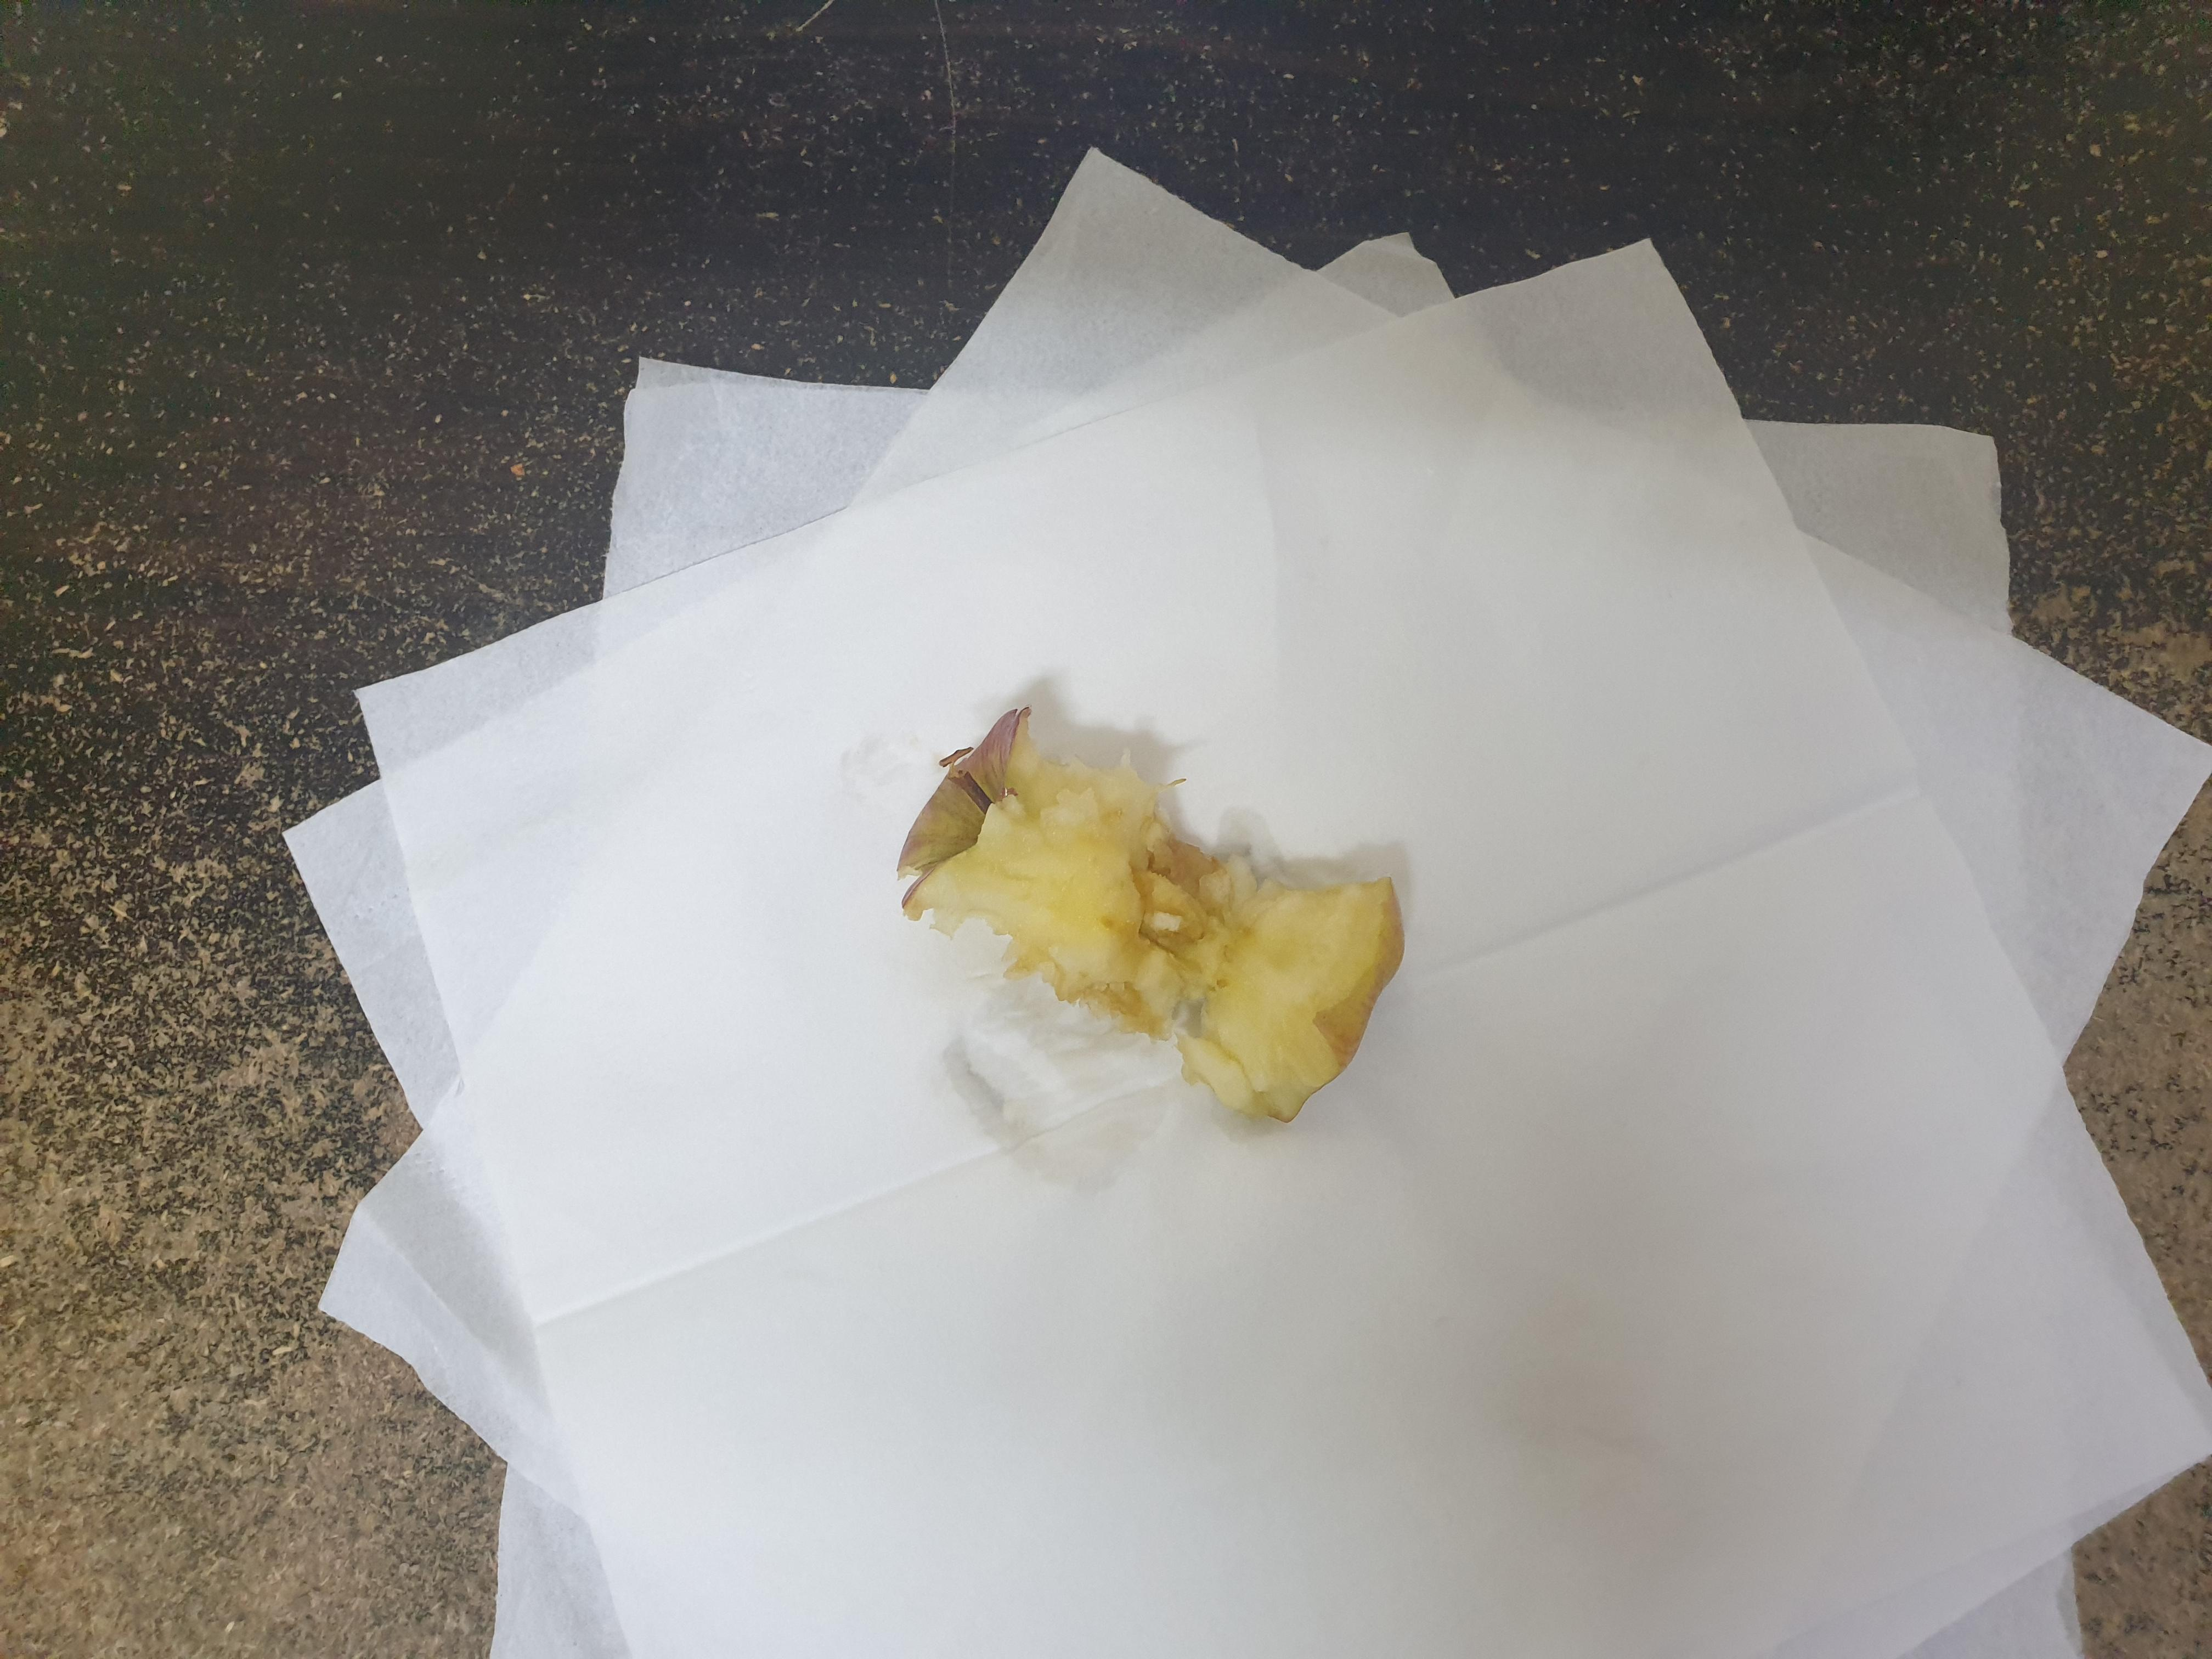Apple: (874, 681, 1435, 1147)
